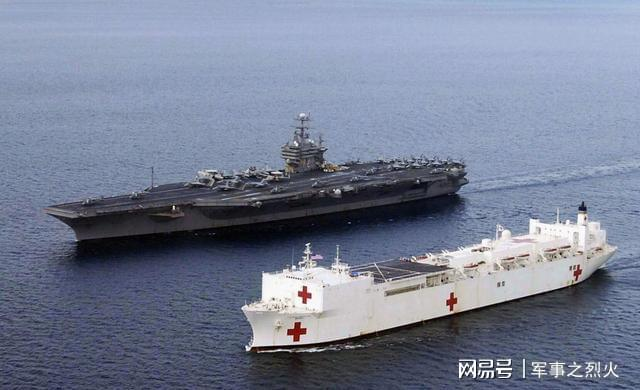warship: (240, 196, 621, 356), (37, 108, 470, 243)
